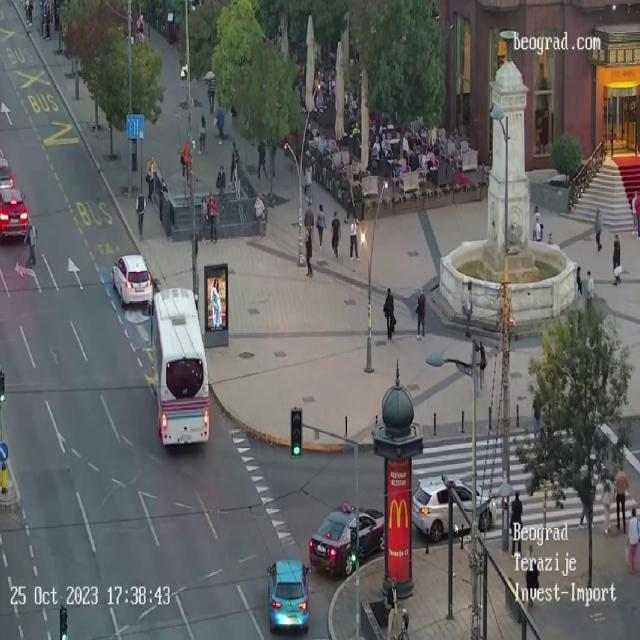bus: (151, 286, 210, 447)
car: (411, 474, 495, 542), (310, 506, 386, 566), (267, 559, 311, 633), (112, 254, 153, 308), (0, 181, 30, 239)
